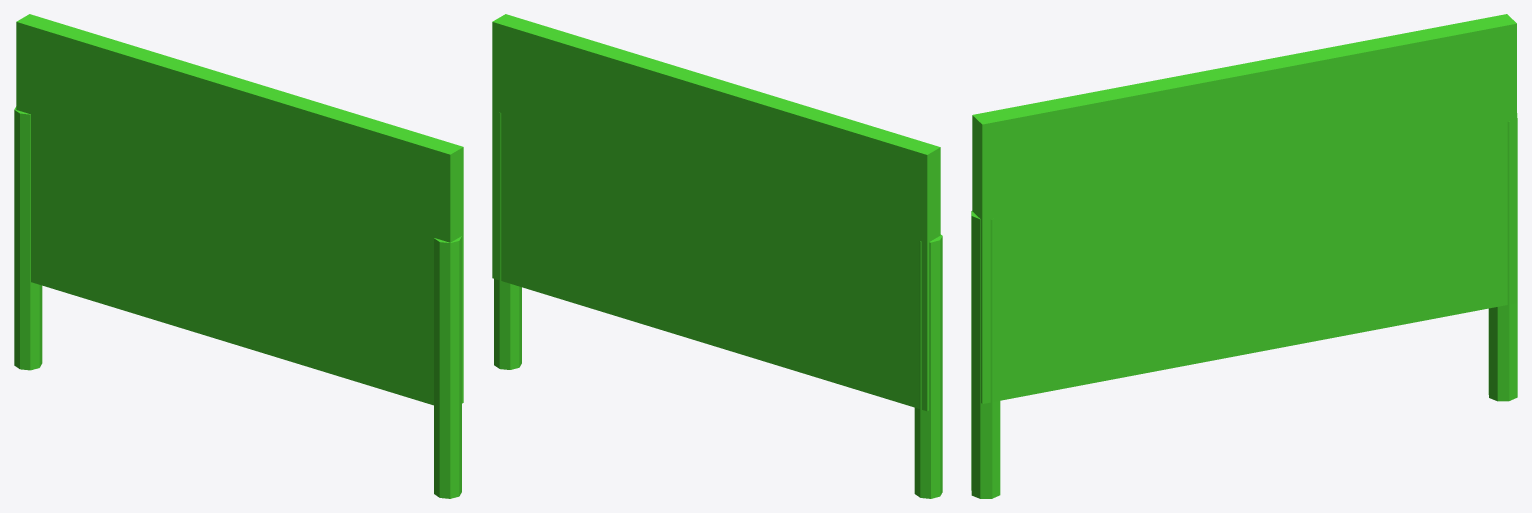
File: cylinder.002.001_lev3.glb
3 renders of one model, left to right at view 1: azimuth 30°, elevation 25°; view 2: azimuth 210°, elevation 25°; view 3: azimuth 270°, elevation 25°, orthographic. The views are drawn at different scales.
Visible parts, largest first — view 1: cylinder.002.001_lev3; view 2: cylinder.002.001_lev3; view 3: cylinder.002.001_lev3.
Part boxes in pixels (x1,y1,x2,y2): cylinder.002.001_lev3: [14, 14, 463, 498]; cylinder.002.001_lev3: [492, 14, 942, 498]; cylinder.002.001_lev3: [971, 14, 1517, 498].
Size of the model in its own units: 3.2 by 5.04 by 6.63.
